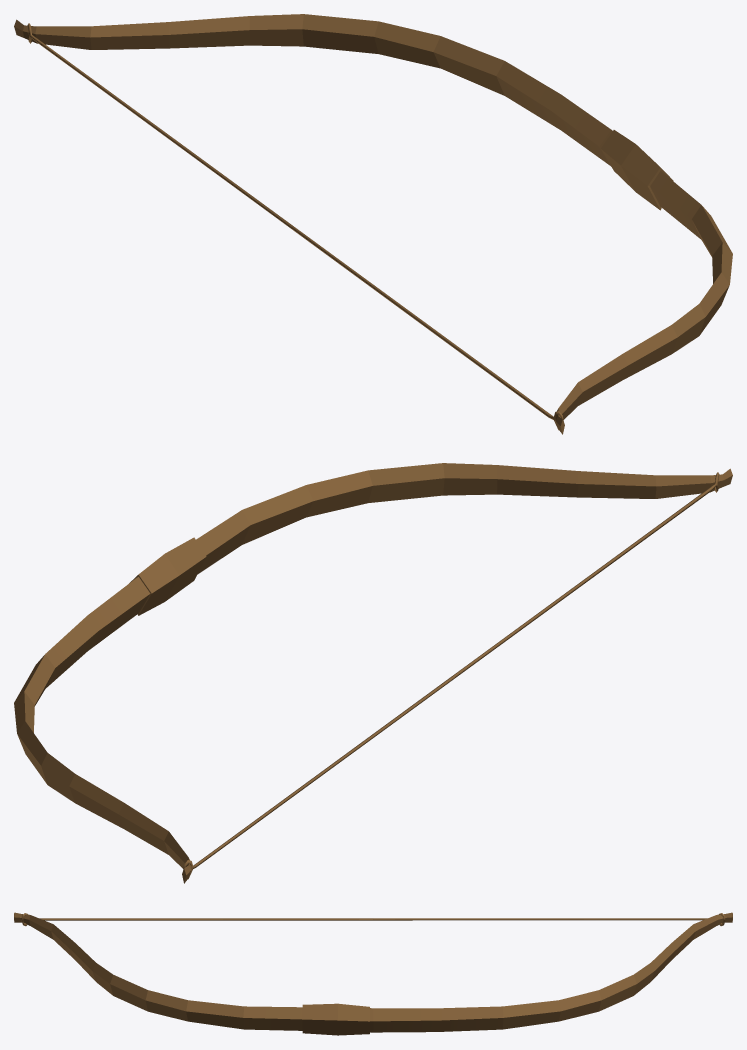
Rendered from me_bow.fbx.
The picture shows the model from 3 angles, top to bottom: view 1: azimuth 30°, elevation 25°; view 2: azimuth 150°, elevation 25°; view 3: azimuth 270°, elevation 25°; orthographic projection. The views are drawn at different scales.
Visible parts, largest first — view 1: Cube.001; view 2: Cube.001; view 3: Cube.001.
Boxes of the visible parts, x1,y1,x2,y2 form: Cube.001: (14, 14, 732, 434); Cube.001: (14, 463, 732, 883); Cube.001: (14, 912, 732, 1035).
Bounding box in the file's own units: 89.5 × 12.27 × 251.
